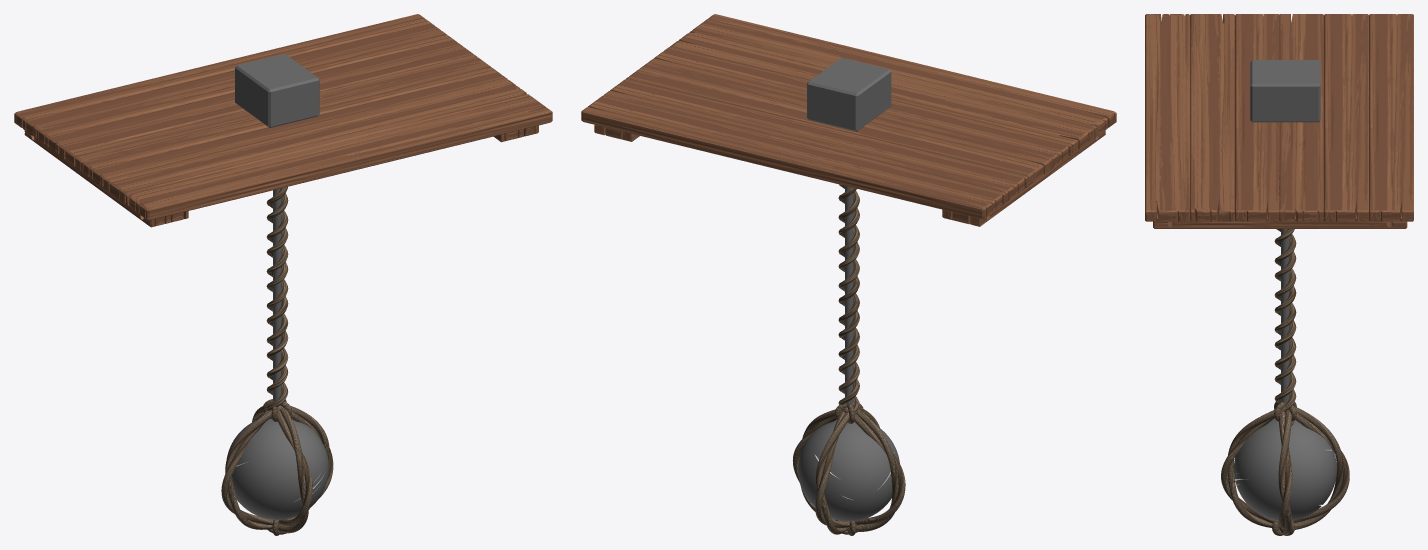
Rendered from Pendulum 1.fbx.
The picture shows the model from 3 angles, left to right: view 1: azimuth 30°, elevation 25°; view 2: azimuth 150°, elevation 25°; view 3: azimuth 270°, elevation 25°; orthographic projection.
Parts seen in each view (by area): view 1: Pendulum; view 2: Pendulum; view 3: Pendulum.
Boxes of the visible parts, x1,y1,x2,y2 form: Pendulum: (14,14,552,535); Pendulum: (581,14,1116,535); Pendulum: (1145,14,1413,535).
Size of the model in its own units: 31.54 by 34.34 by 18.07.
